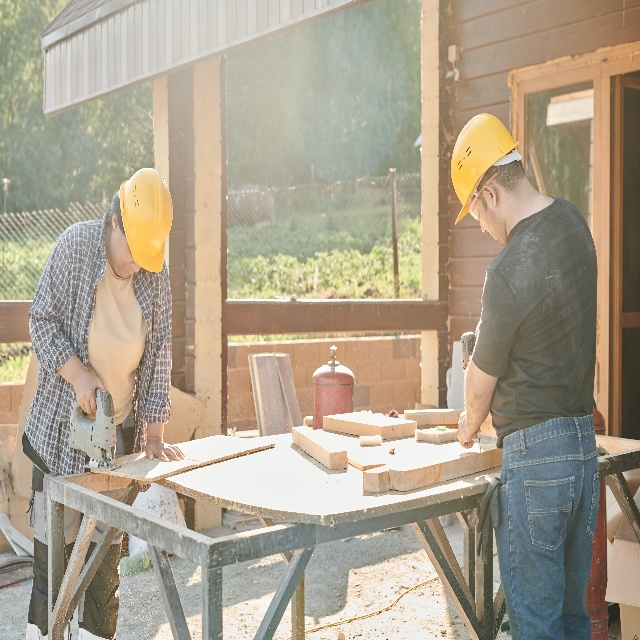Gafas: (468, 168, 497, 222)
Guantes: (66, 389, 119, 468), (475, 477, 504, 560)
Sin_guantes: (77, 370, 105, 422), (144, 436, 181, 464), (456, 411, 481, 450)
